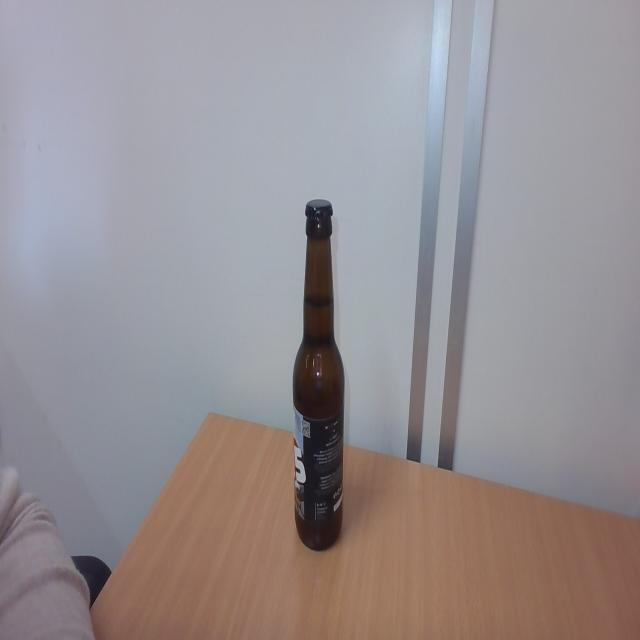Bottle: (293, 232, 345, 551)
Cap: (303, 193, 334, 229)
Label: (292, 411, 344, 524)
